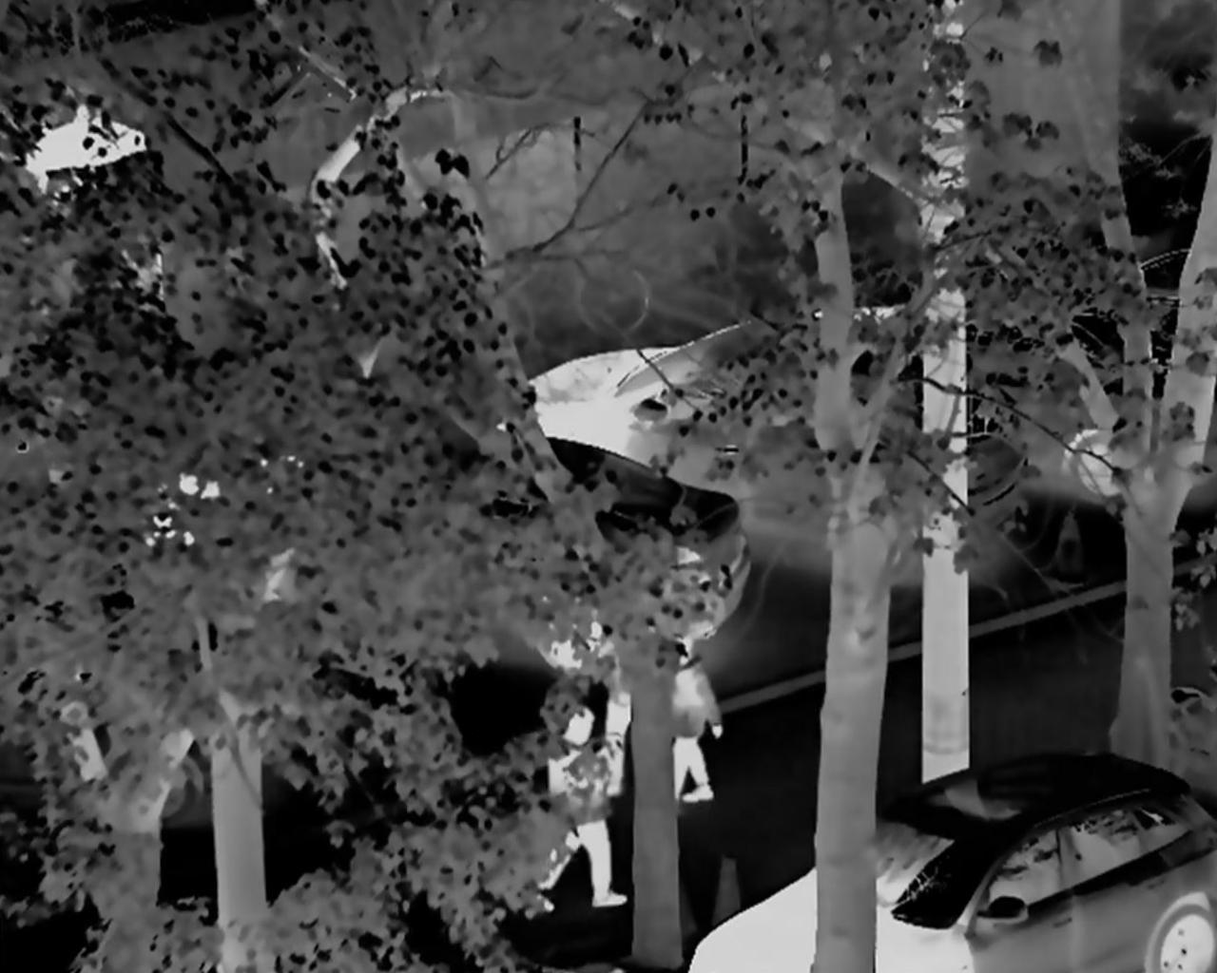person: (533, 700, 628, 907), (649, 625, 724, 811), (589, 626, 665, 804)
